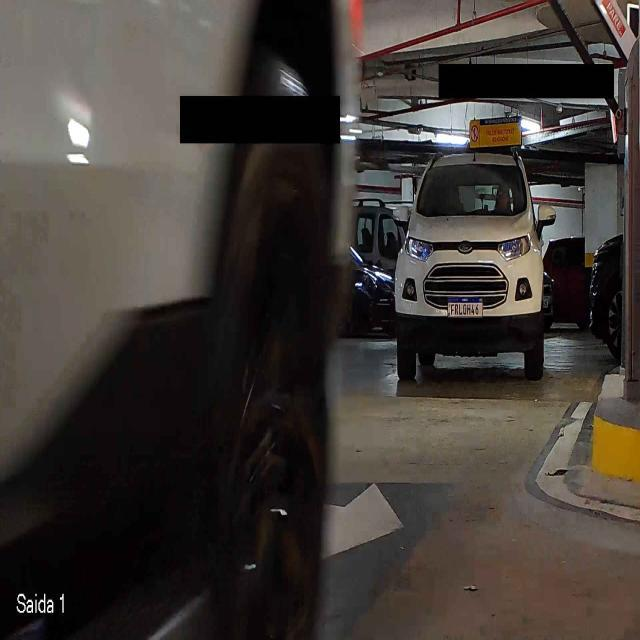mercosul_plate: (446, 296, 484, 319)
